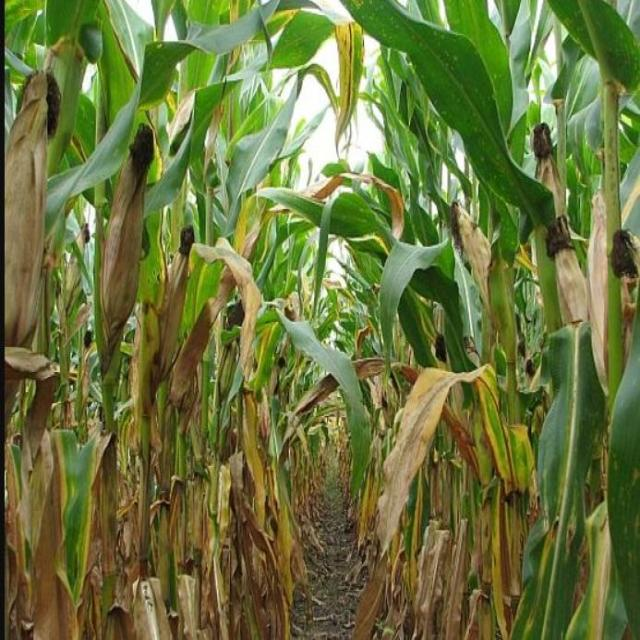row: (239, 441, 422, 639)
